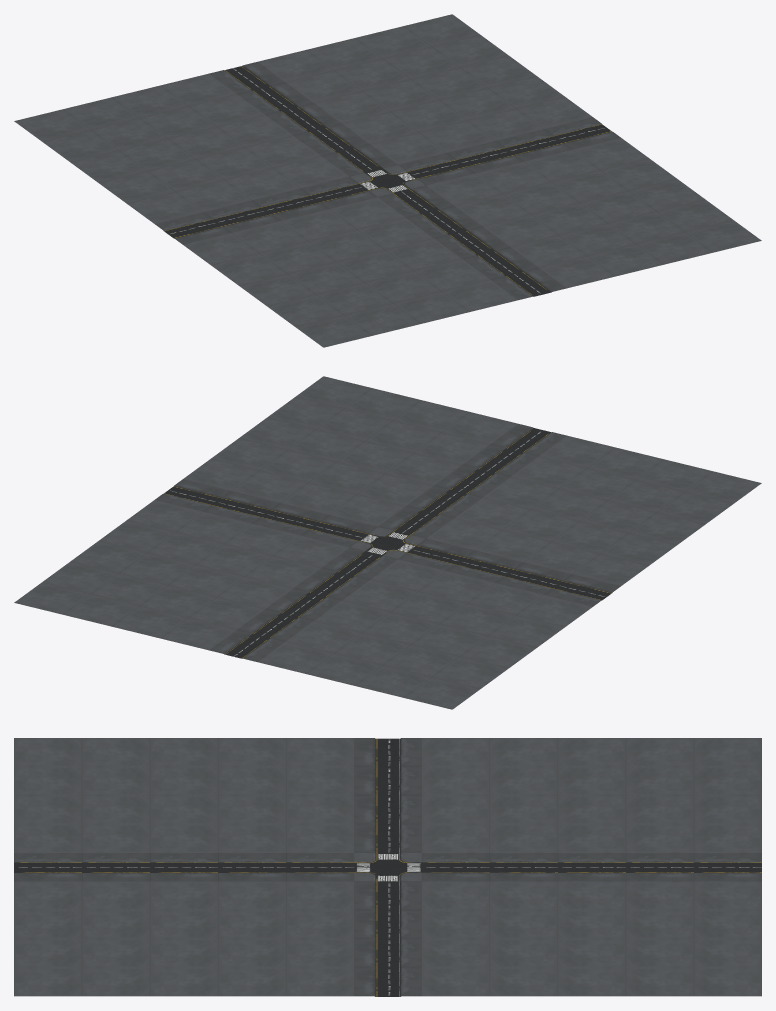
File: Road_01.FBX
3 views of the same model, one above another, from view 1: azimuth 30°, elevation 25°; view 2: azimuth 150°, elevation 25°; view 3: azimuth 270°, elevation 25° (orthographic). The views are drawn at different scales.
Parts seen in each view (by area): view 1: Plane016; view 2: Plane016; view 3: Plane016.
Boxes of the visible parts, left/top/right/bottom form: Plane016: left=14, top=14, right=761, bottom=347; Plane016: left=14, top=376, right=761, bottom=709; Plane016: left=14, top=738, right=761, bottom=996.
Bounding box in the file's own units: 2288 × 1.92 × 2799.
